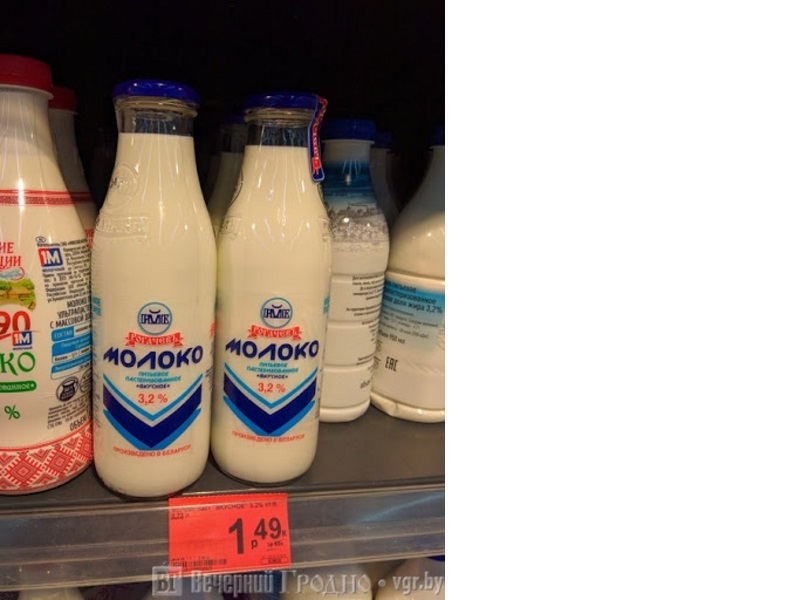milk: (94, 82, 227, 503), (1, 47, 101, 506), (222, 92, 331, 495)
